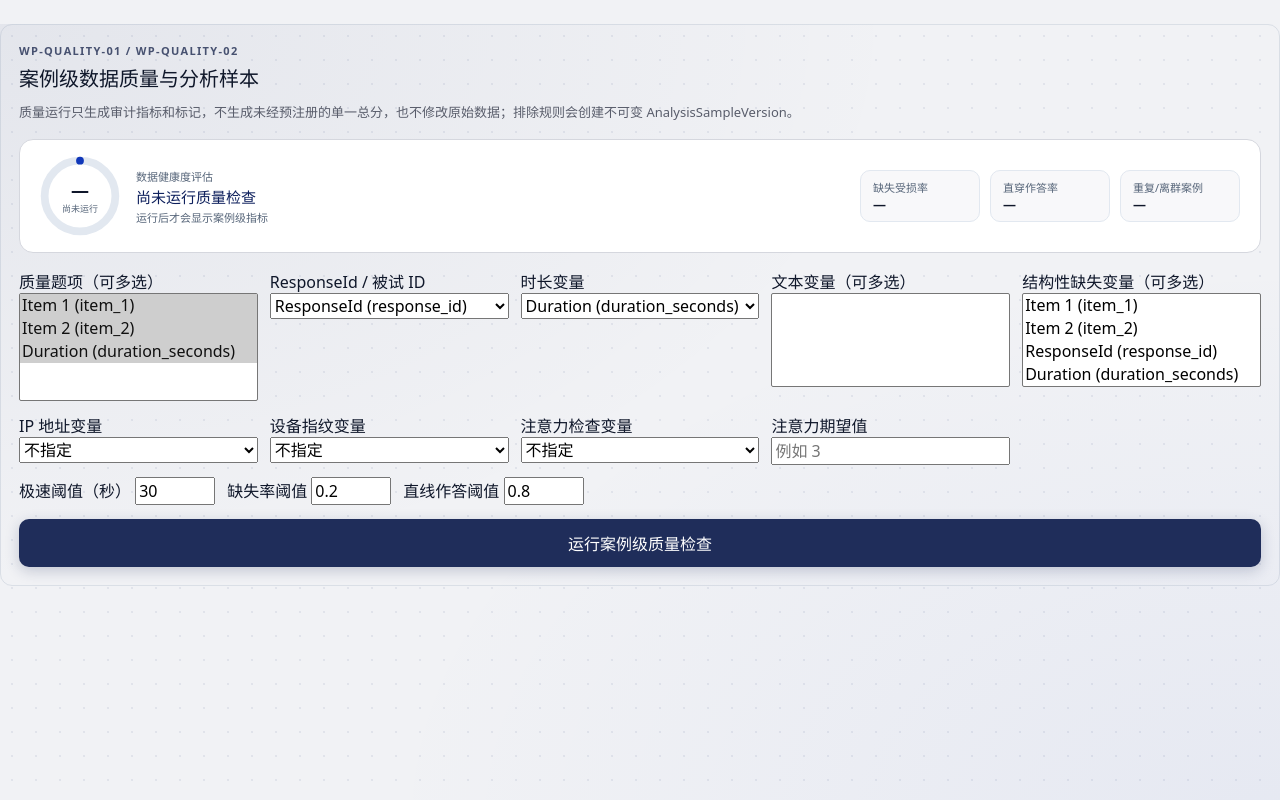
it: DataQualityWorkspace › runs quality checks and creates an analysis sample version
Click the button "运行案例级质量检查". click: click(640, 543)
box: [19, 519, 1261, 567]
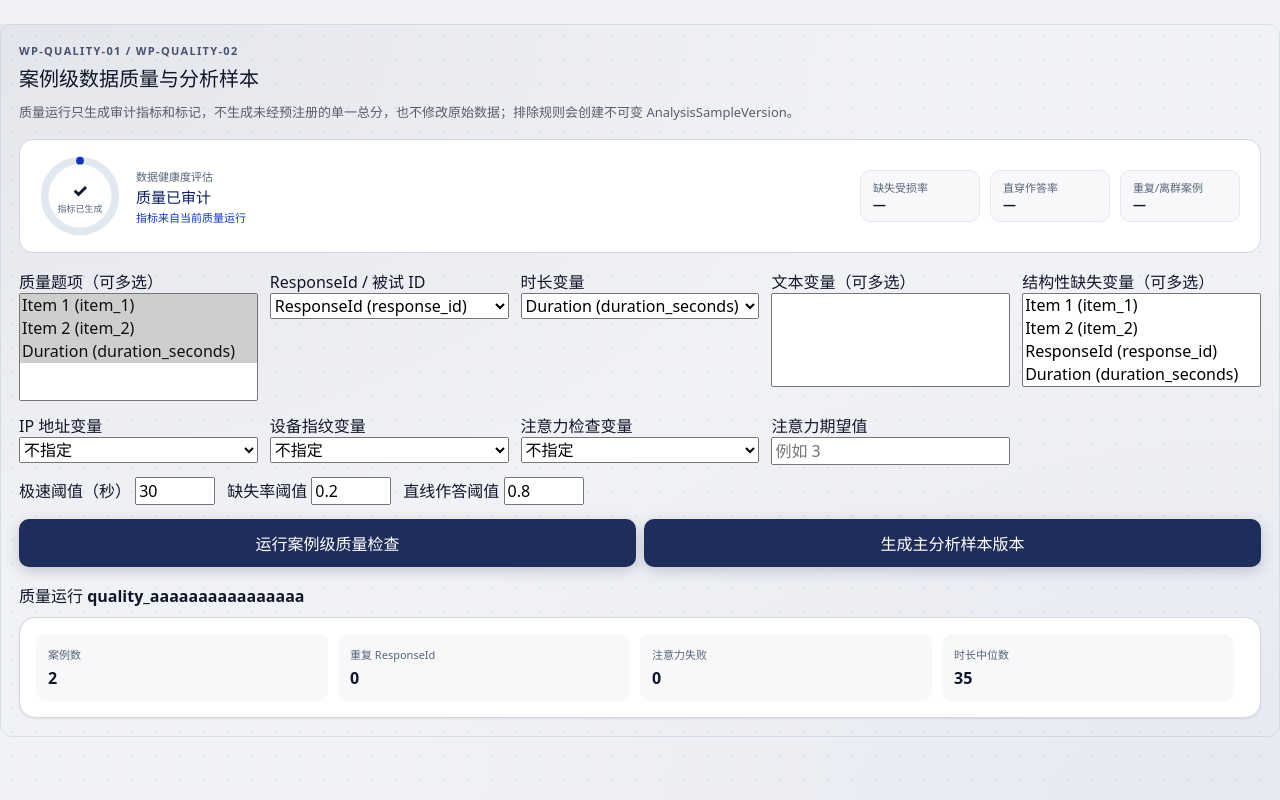
Expected: the text "质量运行只生成审计指标和标记，不生成未经预注册的单一总分" is shown, [19, 103, 800, 121]
Expected: the text "指标已生成" is shown, [58, 202, 102, 215]
Click the button "生成主分析样本版本". click: click(952, 543)
box: [644, 519, 1261, 567]
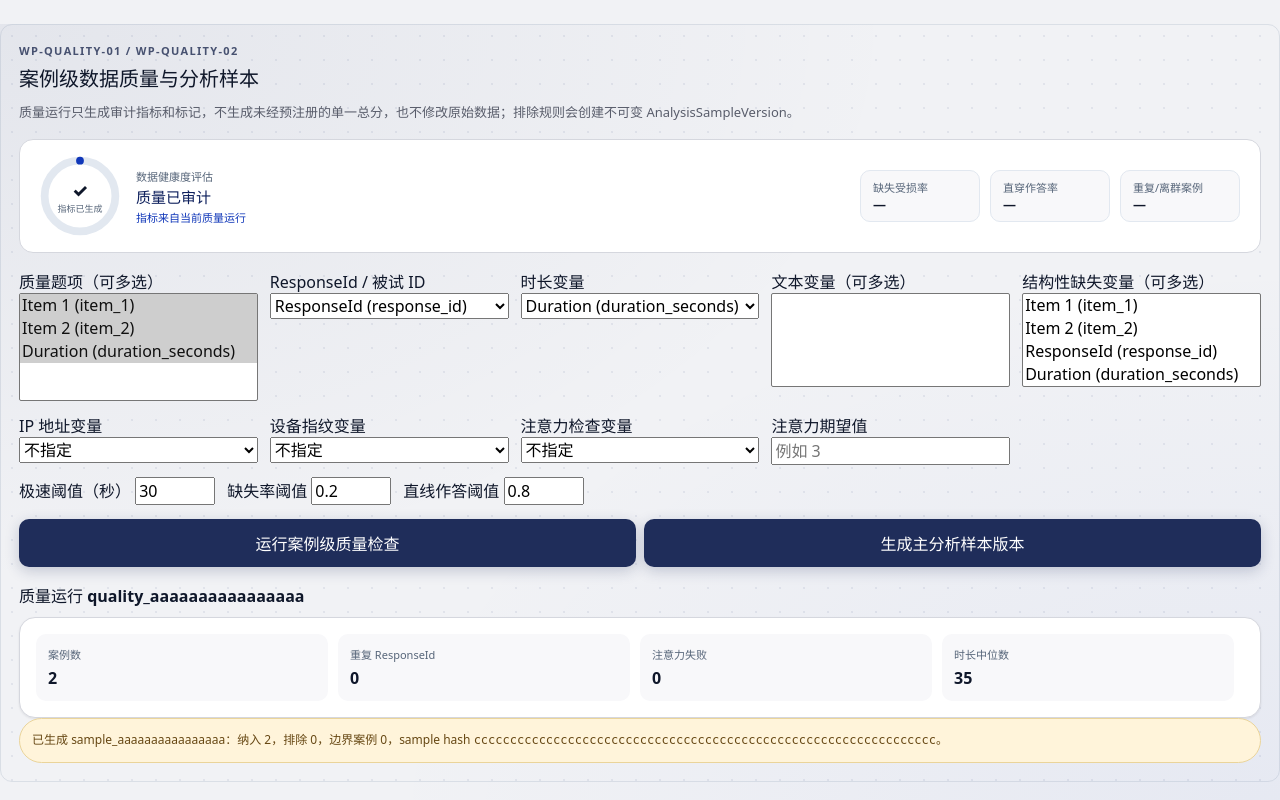
Expected: the text "已生成 sample_" is shown, [19, 718, 1261, 763]
